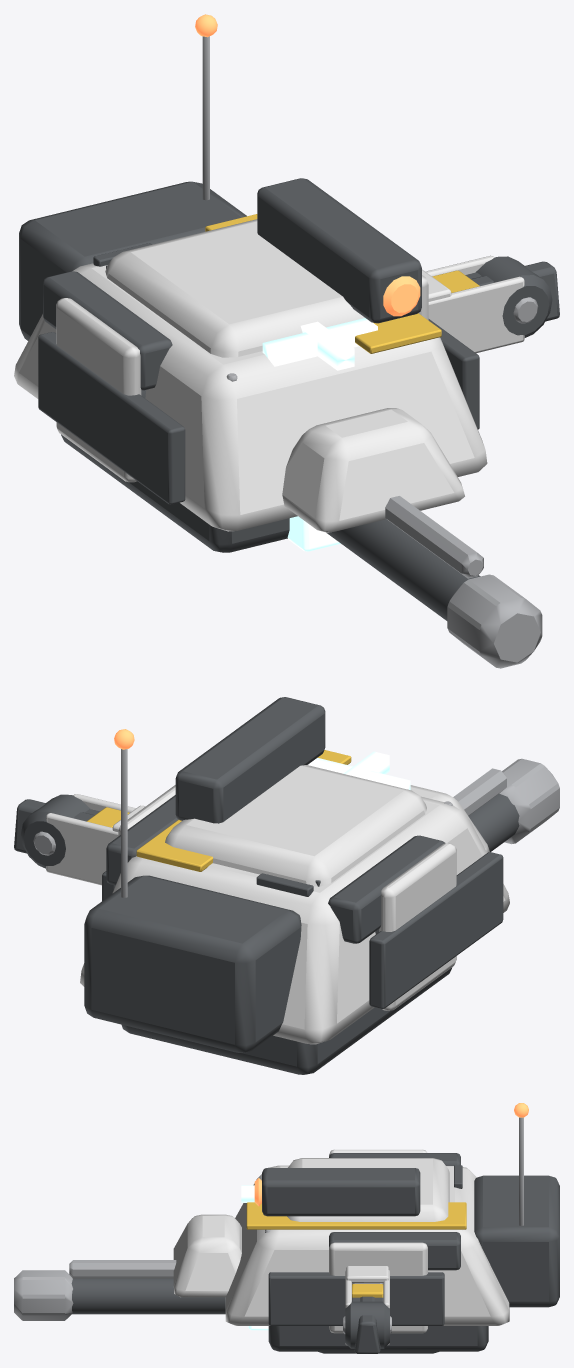
Rendered from rifle.glb.
The picture shows the model from 3 angles, top to bottom: view 1: azimuth 30°, elevation 25°; view 2: azimuth 150°, elevation 25°; view 3: azimuth 270°, elevation 25°; orthographic projection. The views are drawn at different scales.
Visible parts, largest first — view 1: Hull, Turret, Barrel, LegUpper, LegLower; view 2: Hull, Turret, LegUpper, Barrel, LegLower; view 3: Hull, Turret, Barrel, LegUpper, LegLower.
Boxes of the visible parts, box(x1,y1,x2,y2) form: Hull: box(14, 14, 487, 552); Turret: box(105, 178, 421, 366); Barrel: box(287, 496, 542, 668); LegUpper: box(422, 255, 552, 353); LegLower: box(432, 261, 559, 321); Hull: box(80, 729, 509, 1074); Turret: box(165, 697, 426, 886); LegUpper: box(21, 794, 145, 885); Barrel: box(453, 758, 559, 851); LegLower: box(14, 799, 129, 853); Hull: box(173, 1103, 559, 1353); Turret: box(254, 1158, 449, 1221); Barrel: box(14, 1260, 268, 1330); LegUpper: box(343, 1266, 391, 1348); LegLower: box(352, 1283, 383, 1353).
Size of the model in its own units: 0.637 by 0.494 by 0.9933.
